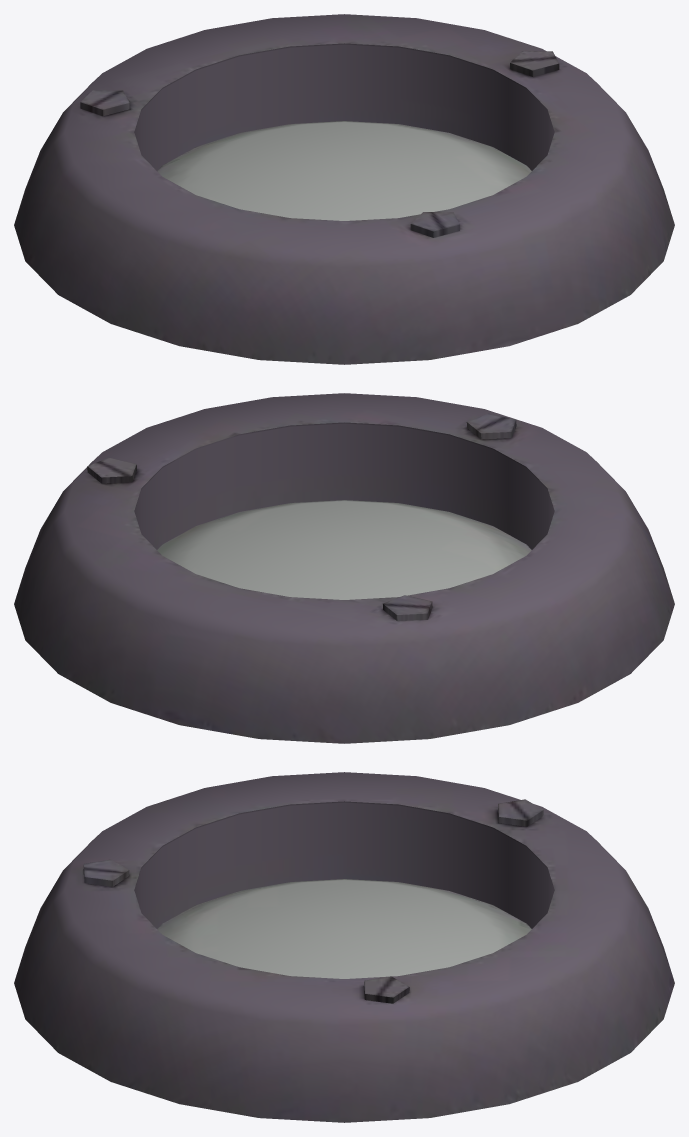
The picture shows the model from 3 angles, top to bottom: view 1: azimuth 30°, elevation 25°; view 2: azimuth 150°, elevation 25°; view 3: azimuth 270°, elevation 25°; orthographic projection.
Parts seen in each view (by area): view 1: body0_model0_lod0_mesh0; view 2: body0_model0_lod0_mesh0; view 3: body0_model0_lod0_mesh0.
Part boxes in pixels (x1,y1,x2,y2): body0_model0_lod0_mesh0: (14, 14, 674, 364); body0_model0_lod0_mesh0: (14, 393, 674, 743); body0_model0_lod0_mesh0: (14, 772, 674, 1122).
Bounding box in the file's own units: 33.68 × 5.58 × 33.68.
1 material, 1 textured.
